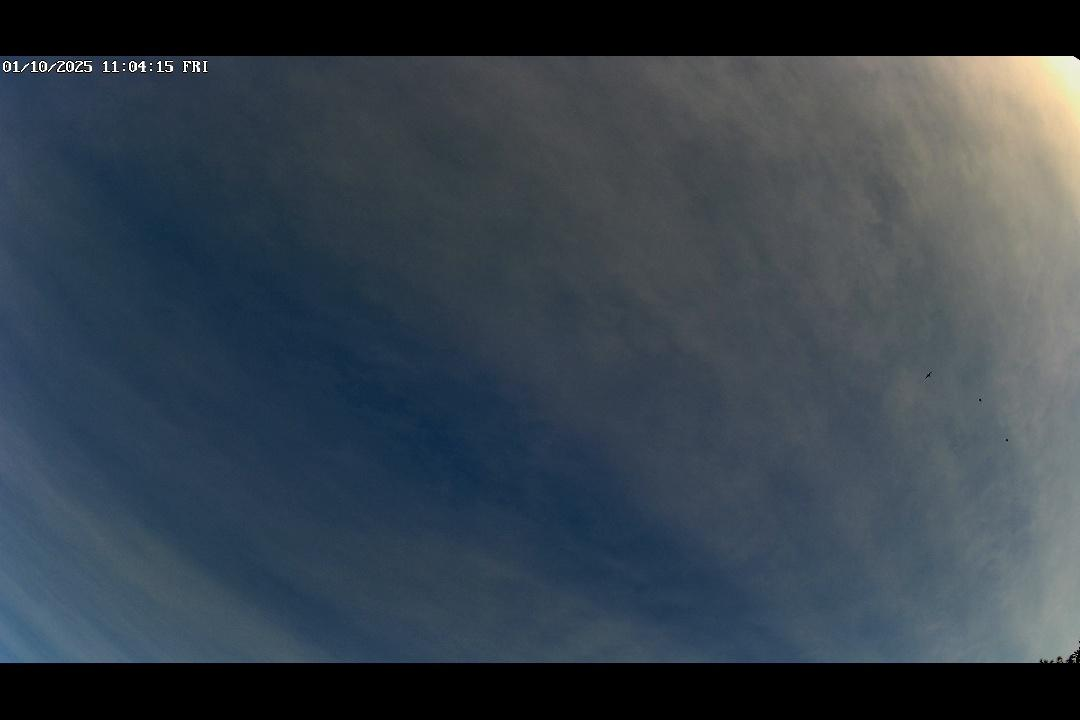WildLife: (911, 363, 945, 385), (1003, 436, 1013, 443), (976, 397, 985, 404)
